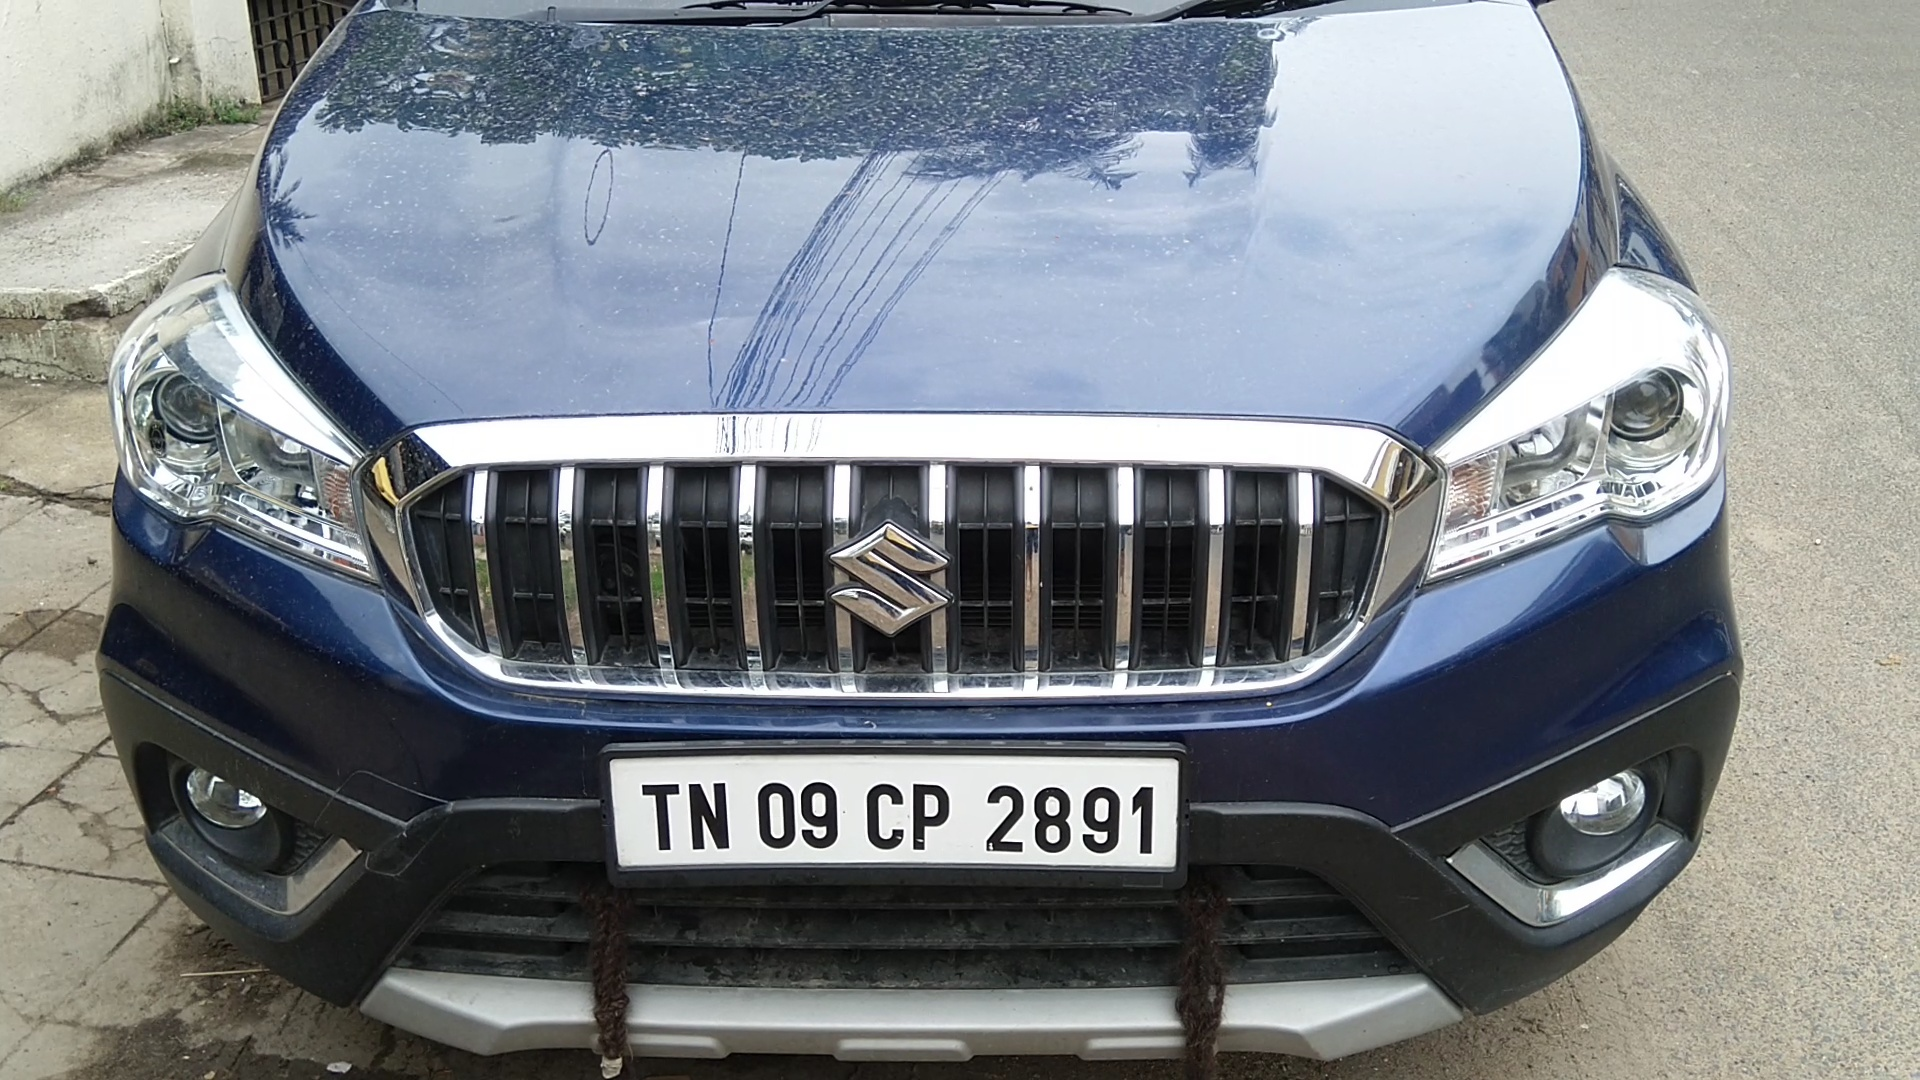front_grill: (365, 411, 1445, 735)
headlamp: (1429, 249, 1729, 582), (108, 261, 361, 560)
